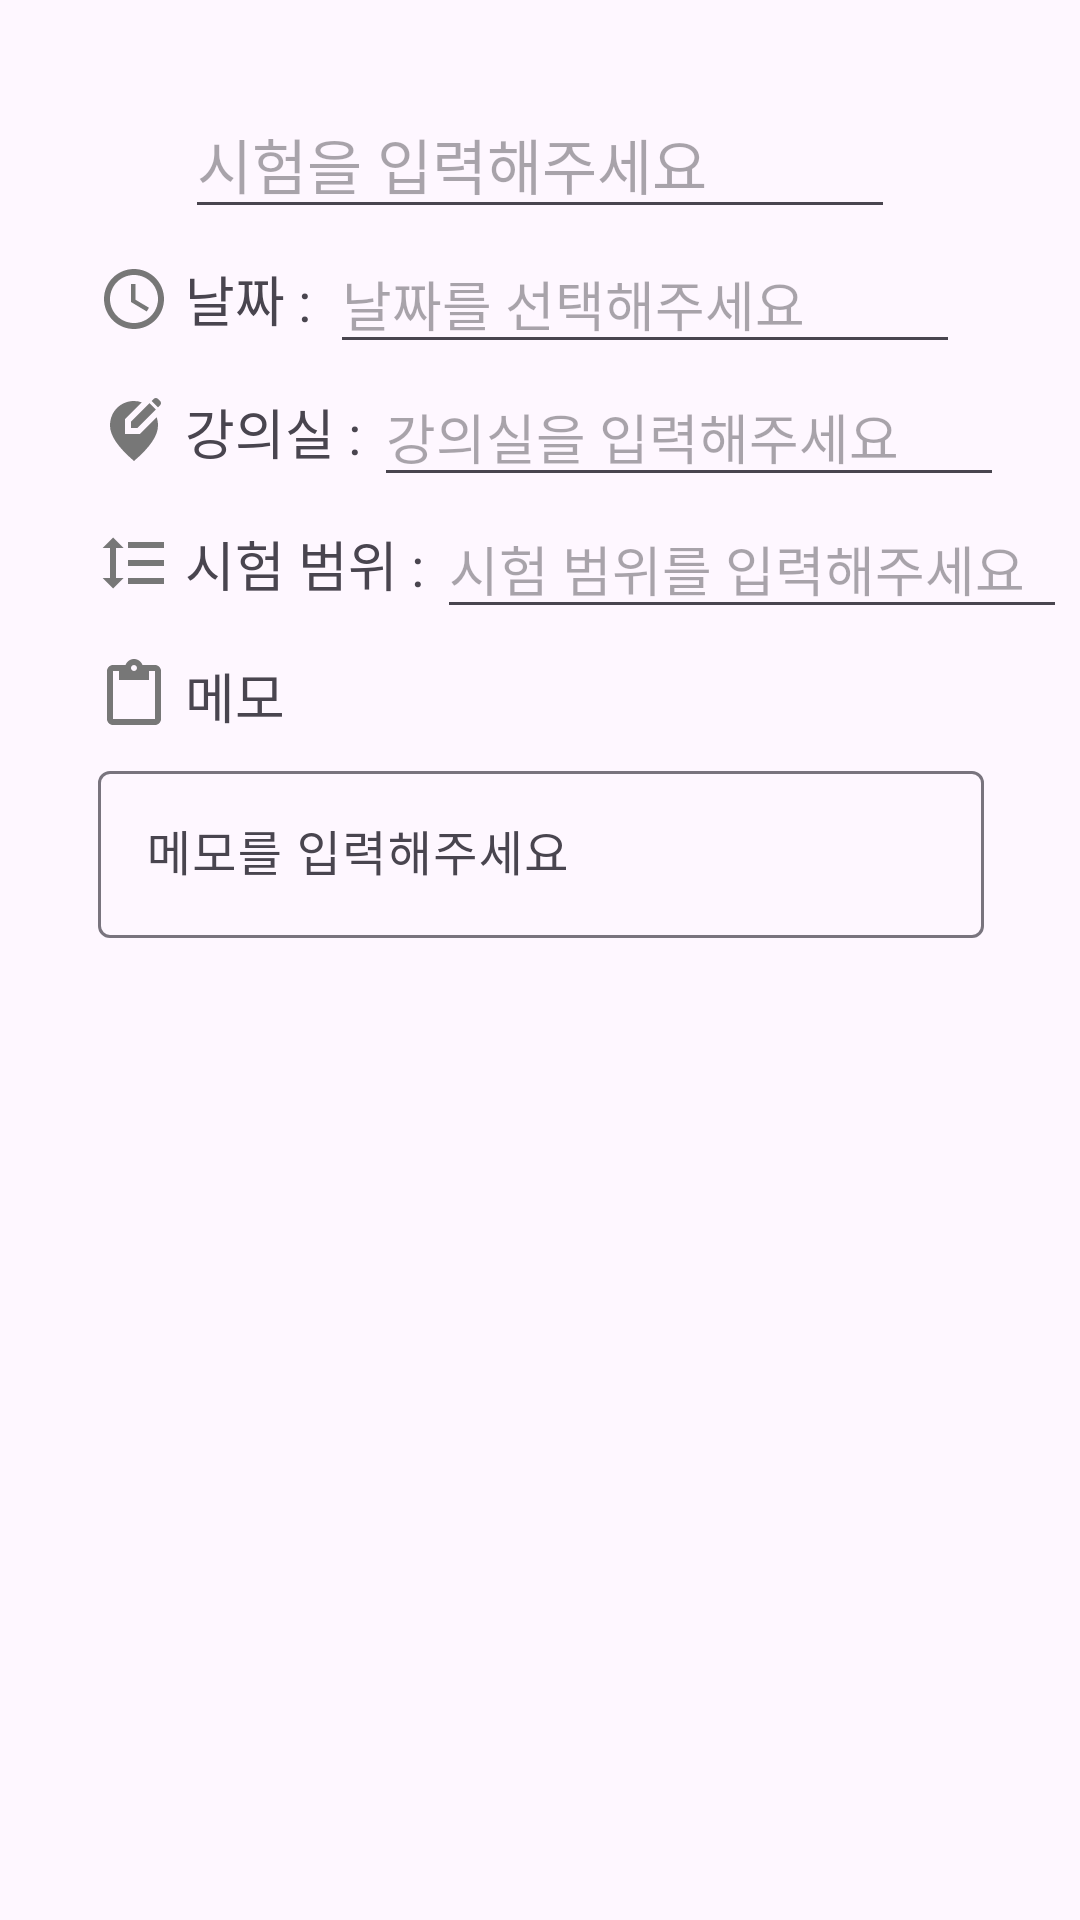

Locate icon controls on the screen. Image size 1080 x 1920, boxes as (x1=x1, y1=y1, x2=x2, y2=y2).
access time: (x1=104, y1=269, x2=164, y2=329)
content paste: (x1=107, y1=659, x2=161, y2=725)
edit location: (x1=110, y1=398, x2=161, y2=461)
format line spacing: (x1=103, y1=537, x2=164, y2=589)
